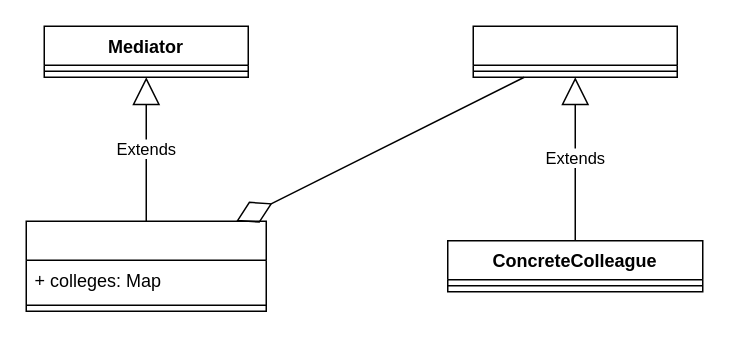
The diagram is 729 pixels wide and 338 high, and some of its shapes have lost their labels. Here are the shapes that lost their labels. From the top down, the box of each, then its label:
(472, 25, 677, 77): Colleague
(25, 220, 266, 311): ConcreteMediator
